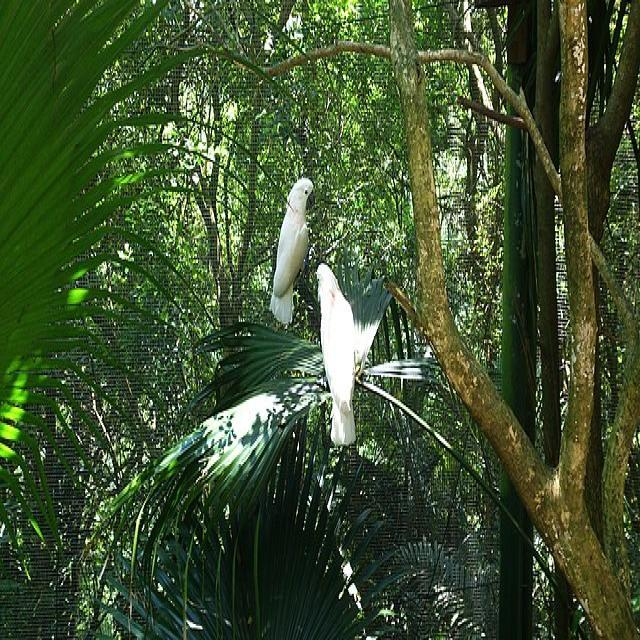Kakatua Putih: (312, 253, 368, 469), (260, 152, 318, 330)
